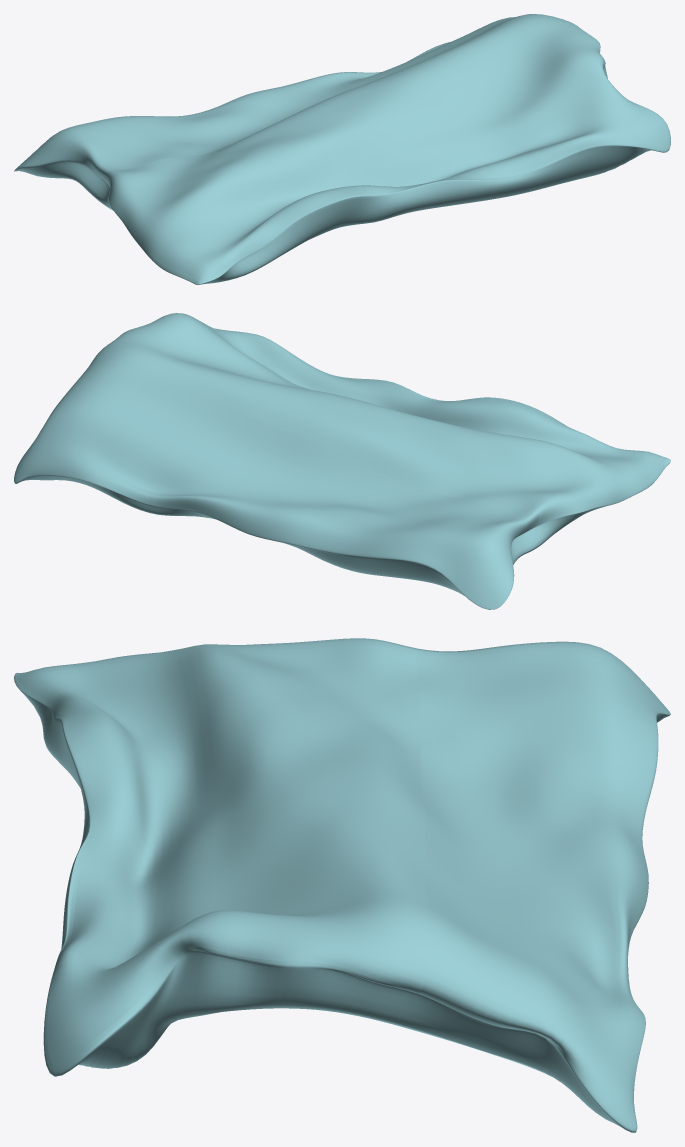
The model's file is BedCover_Anim.FBX.
The picture shows the model from 3 angles, top to bottom: view 1: azimuth 30°, elevation 25°; view 2: azimuth 150°, elevation 25°; view 3: azimuth 270°, elevation 25°; orthographic projection. The views are drawn at different scales.
Visible parts, largest first — view 1: Plane010; view 2: Plane010; view 3: Plane010.
Part boxes in pixels (x1,y1,x2,y2): Plane010: [14, 14, 670, 284]; Plane010: [14, 313, 670, 609]; Plane010: [14, 638, 670, 1132].
Bounding box in the file's own units: 167 × 34.46 × 105.
